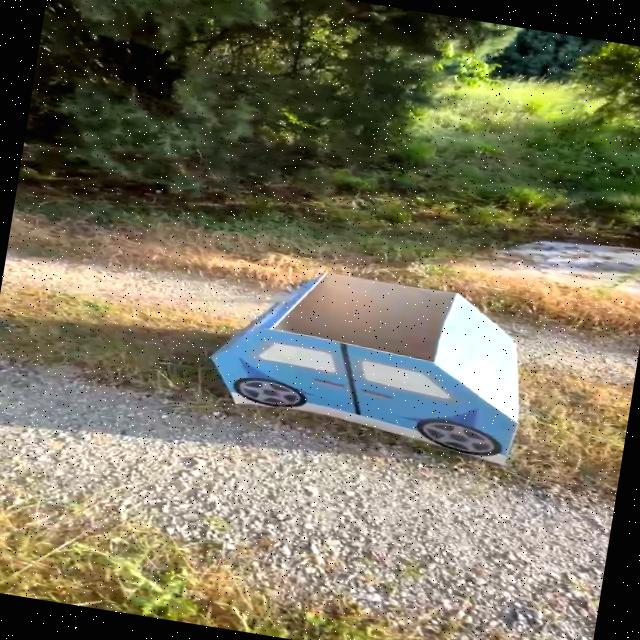blue_car: (188, 241, 615, 491)
